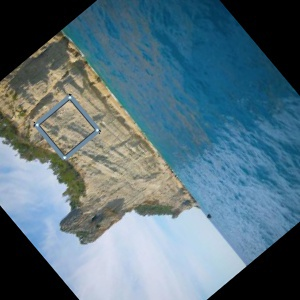square: (33, 93, 103, 161)
